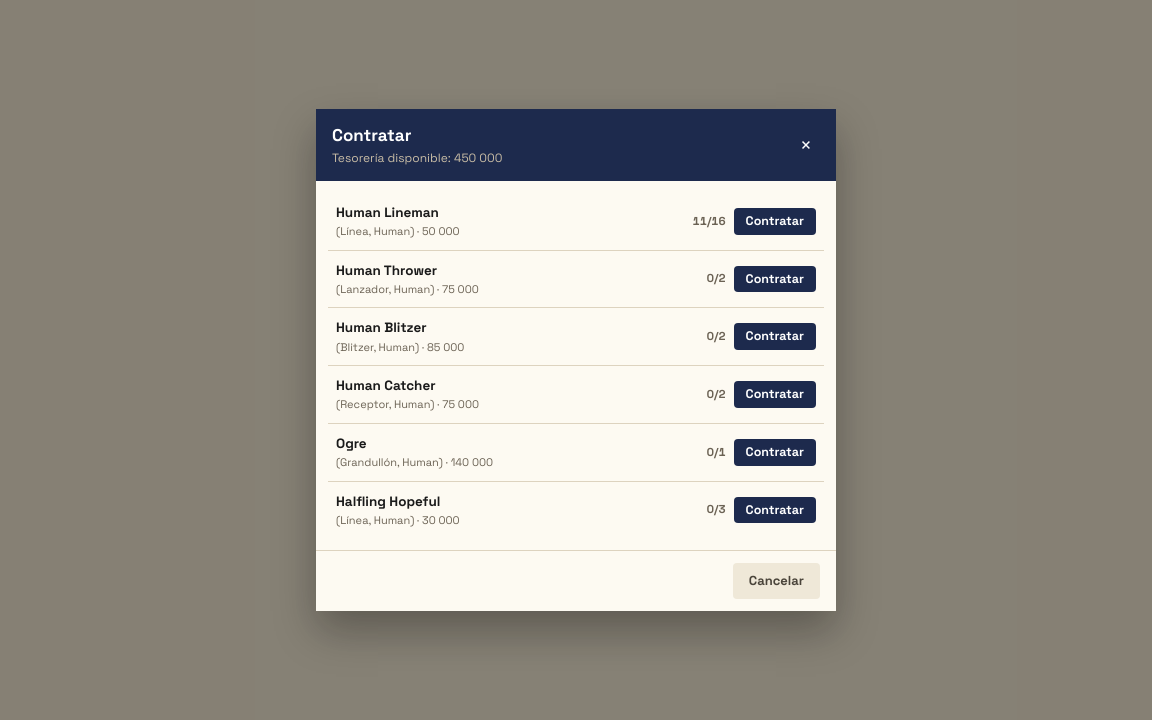
Test: HirePlayerDialog (RAU-11) › surfaces the server error and keeps the dialog open on failure
Step 1. Click the button with aria-label "Contratar Human Blitzer" → (775, 337), box [734,323,816,350]
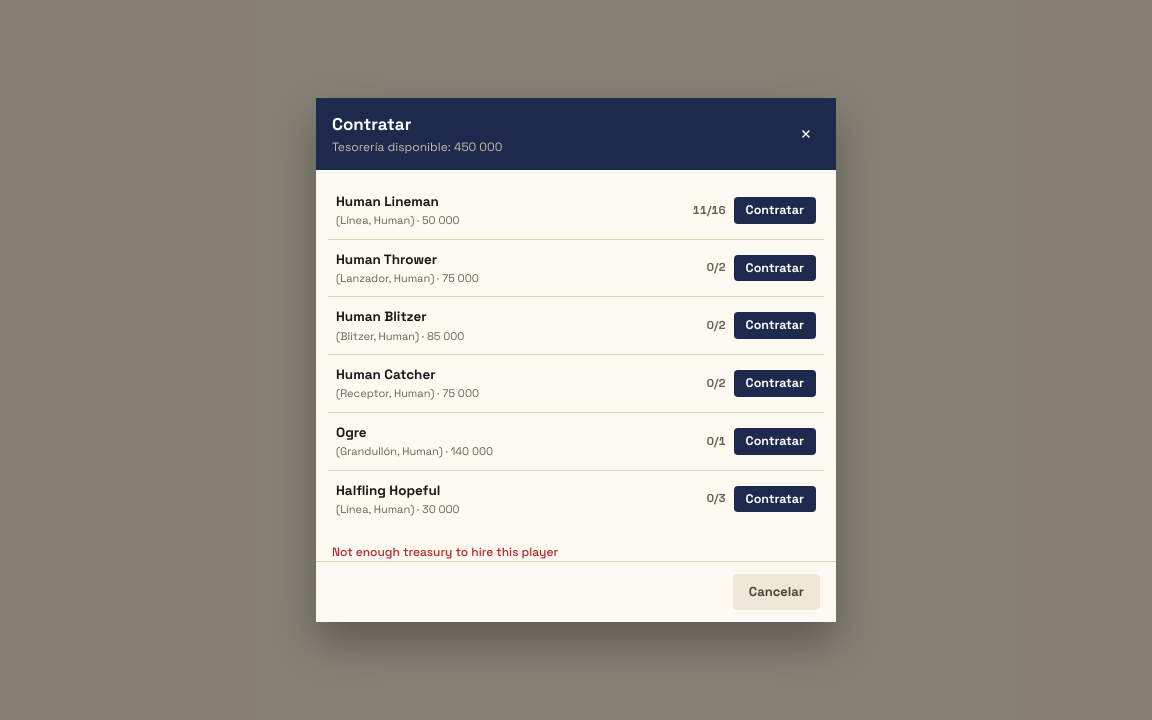
Expected: the message reads "Not enough treasury to hire this player", [332,544,558,560]
